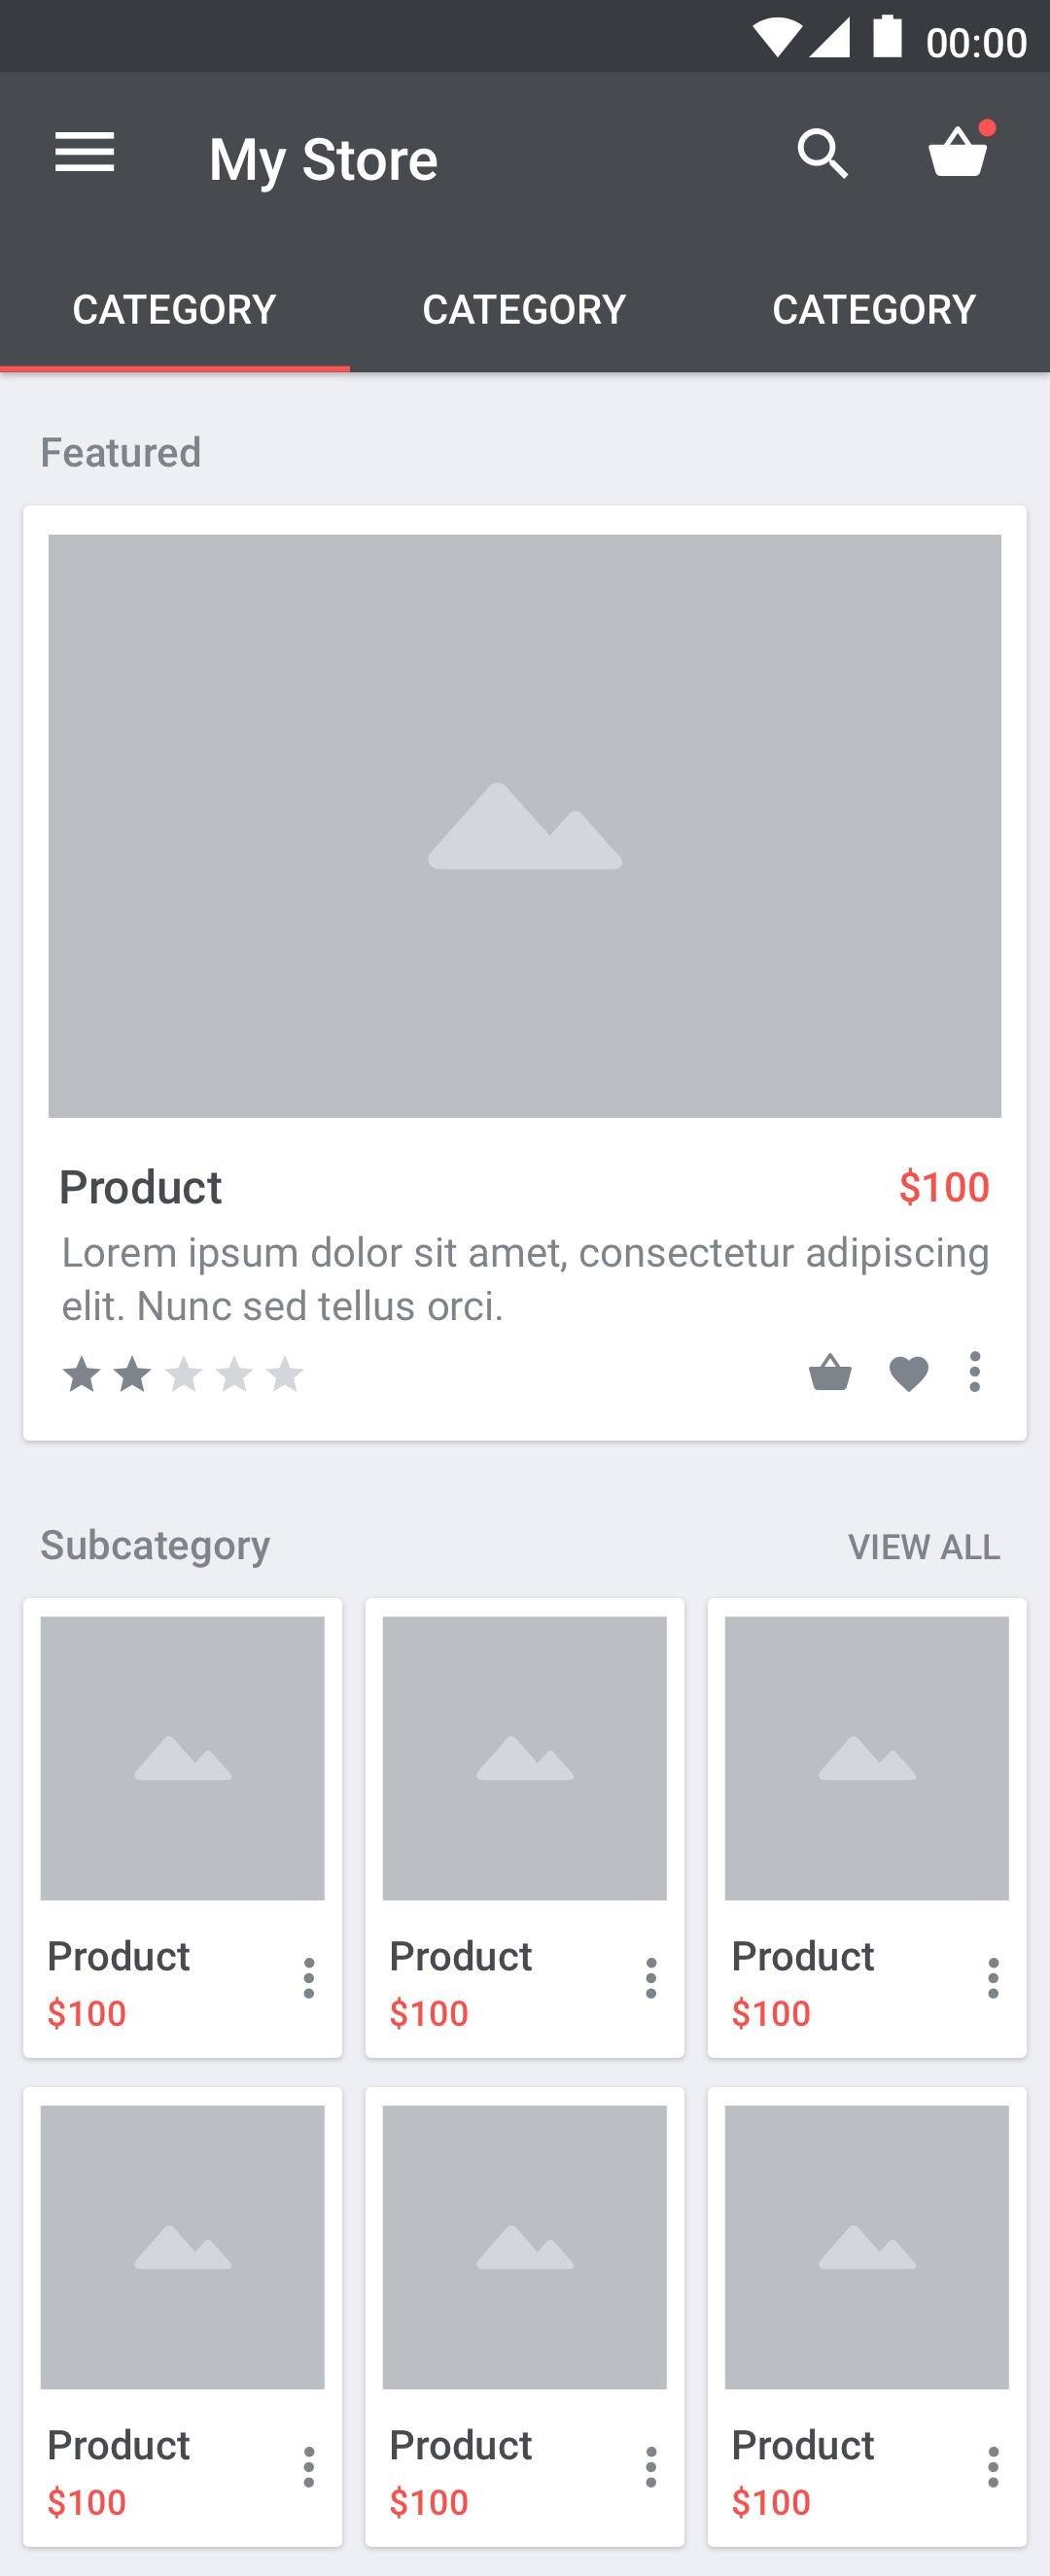Card: (23, 504, 1030, 1444), (365, 2086, 687, 2551), (707, 2085, 1029, 2548), (707, 1597, 1029, 2060), (365, 1597, 687, 2060), (23, 1597, 343, 2060), (23, 2086, 343, 2548)
Icon: (64, 1355, 304, 1392), (923, 115, 999, 181), (797, 130, 850, 179), (56, 131, 117, 172), (808, 1354, 854, 1392), (889, 1355, 930, 1393), (642, 1948, 662, 2004), (986, 1953, 1001, 2003), (969, 1350, 984, 1393), (644, 2446, 659, 2489), (304, 1958, 315, 2001), (304, 2446, 315, 2489), (988, 2446, 999, 2487)
Image: (49, 534, 1002, 1119), (725, 1617, 1011, 1901), (725, 2106, 1011, 2390), (41, 1617, 325, 1901), (383, 1617, 667, 1901), (41, 2106, 325, 2389), (383, 2106, 667, 2389)
Multi_Tab: (2, 235, 1050, 375)
Text: (62, 1237, 988, 1326), (210, 138, 439, 194), (41, 1528, 273, 1571), (424, 294, 629, 325), (74, 294, 279, 325), (774, 294, 978, 325), (62, 1168, 225, 1206), (843, 1529, 1006, 1566), (731, 1935, 877, 1973), (386, 1937, 532, 1973), (733, 2427, 877, 2461), (49, 1939, 192, 1973), (43, 437, 200, 468), (49, 2428, 192, 2461), (391, 2428, 534, 2461), (899, 1168, 989, 1206), (730, 1993, 810, 2031), (389, 1996, 470, 2031), (49, 2484, 125, 2520), (49, 1996, 128, 2031), (731, 2484, 810, 2518), (391, 2484, 468, 2518)
Toolbar: (2, 74, 1050, 235)
UpperTaskBar: (2, 2, 1050, 74)
